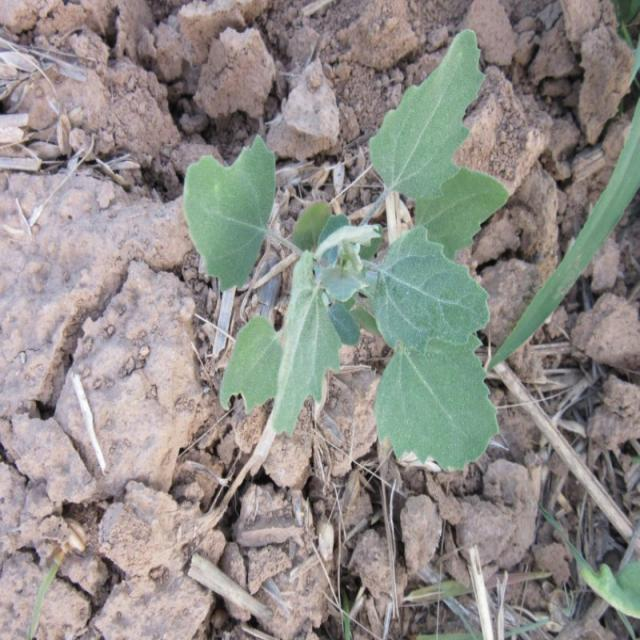ca: (188, 32, 504, 480)
